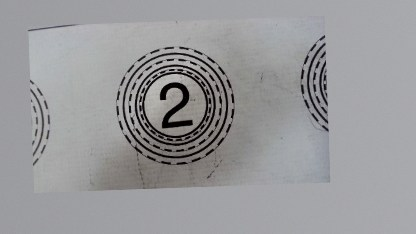2r: (112, 44, 238, 167)
